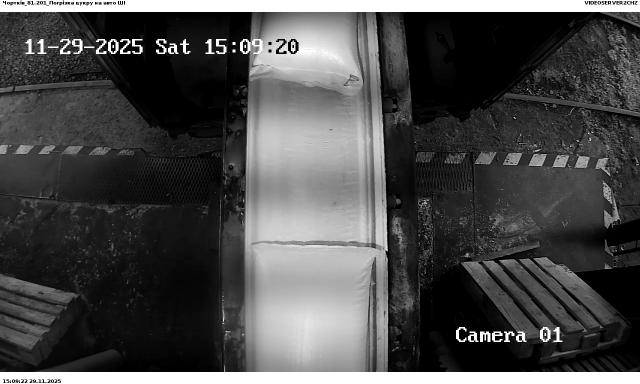bag: (251, 243, 380, 372), (250, 12, 363, 91)
